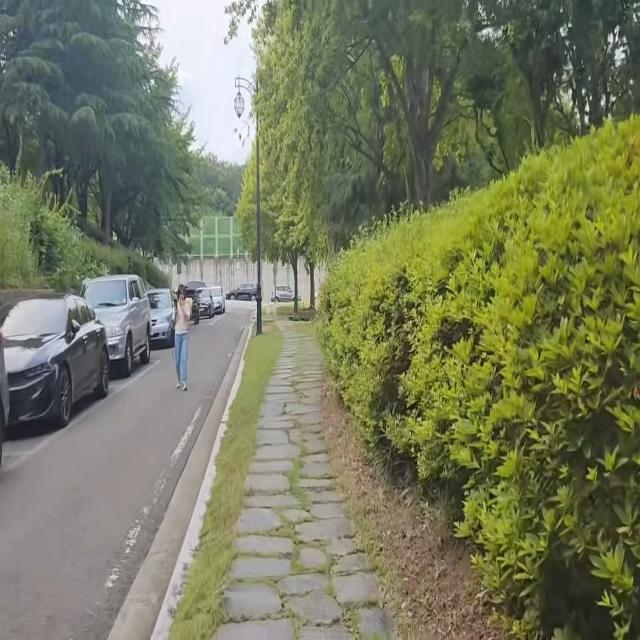obstacle: (229, 61, 264, 335), (168, 273, 195, 393)
road: (0, 305, 256, 640)
sidewalk: (150, 313, 409, 640)
